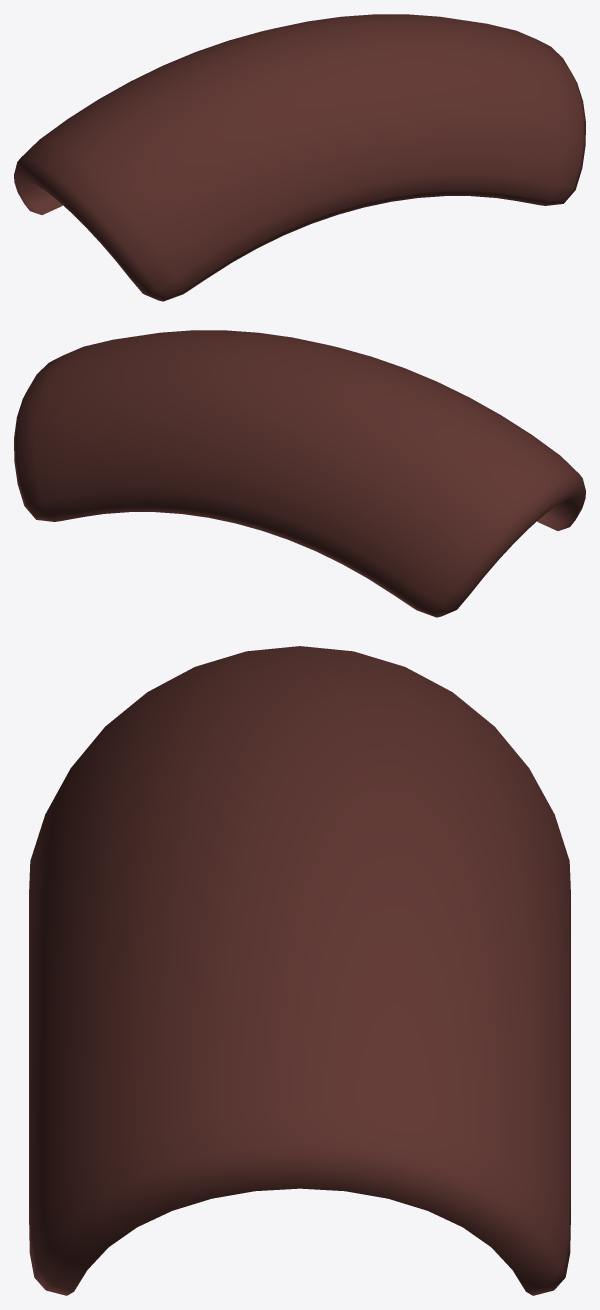
Rendered from Ground_Patch_Medium.fbx.
3 views of the same model, one above another, from view 1: azimuth 30°, elevation 25°; view 2: azimuth 150°, elevation 25°; view 3: azimuth 270°, elevation 25° (orthographic). The views are drawn at different scales.
Visible parts, largest first — view 1: ForestPlanet_Ground.005; view 2: ForestPlanet_Ground.005; view 3: ForestPlanet_Ground.005.
Part boxes in pixels (box(x1,y1,x2,y2)): ForestPlanet_Ground.005: box(14, 14, 585, 301); ForestPlanet_Ground.005: box(14, 330, 585, 617); ForestPlanet_Ground.005: box(29, 646, 570, 1295).
Size of the model in its own units: 126 by 39.92 by 57.44.
